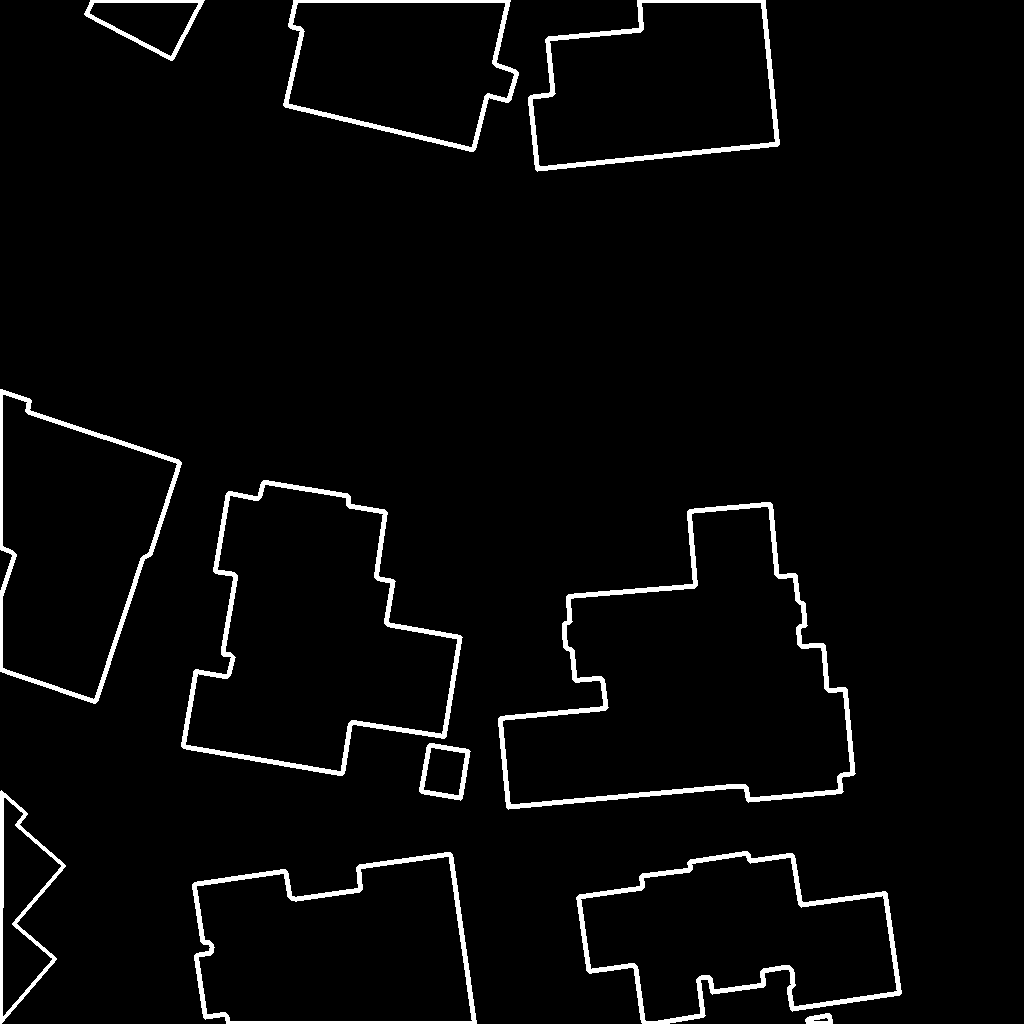building: (500, 504, 854, 808), (183, 482, 461, 775), (0, 391, 181, 703), (578, 853, 901, 1024), (194, 854, 476, 1024), (530, 0, 779, 170), (285, 0, 518, 151), (0, 792, 65, 1024), (86, 0, 204, 60), (421, 745, 469, 799), (807, 1015, 832, 1024)
